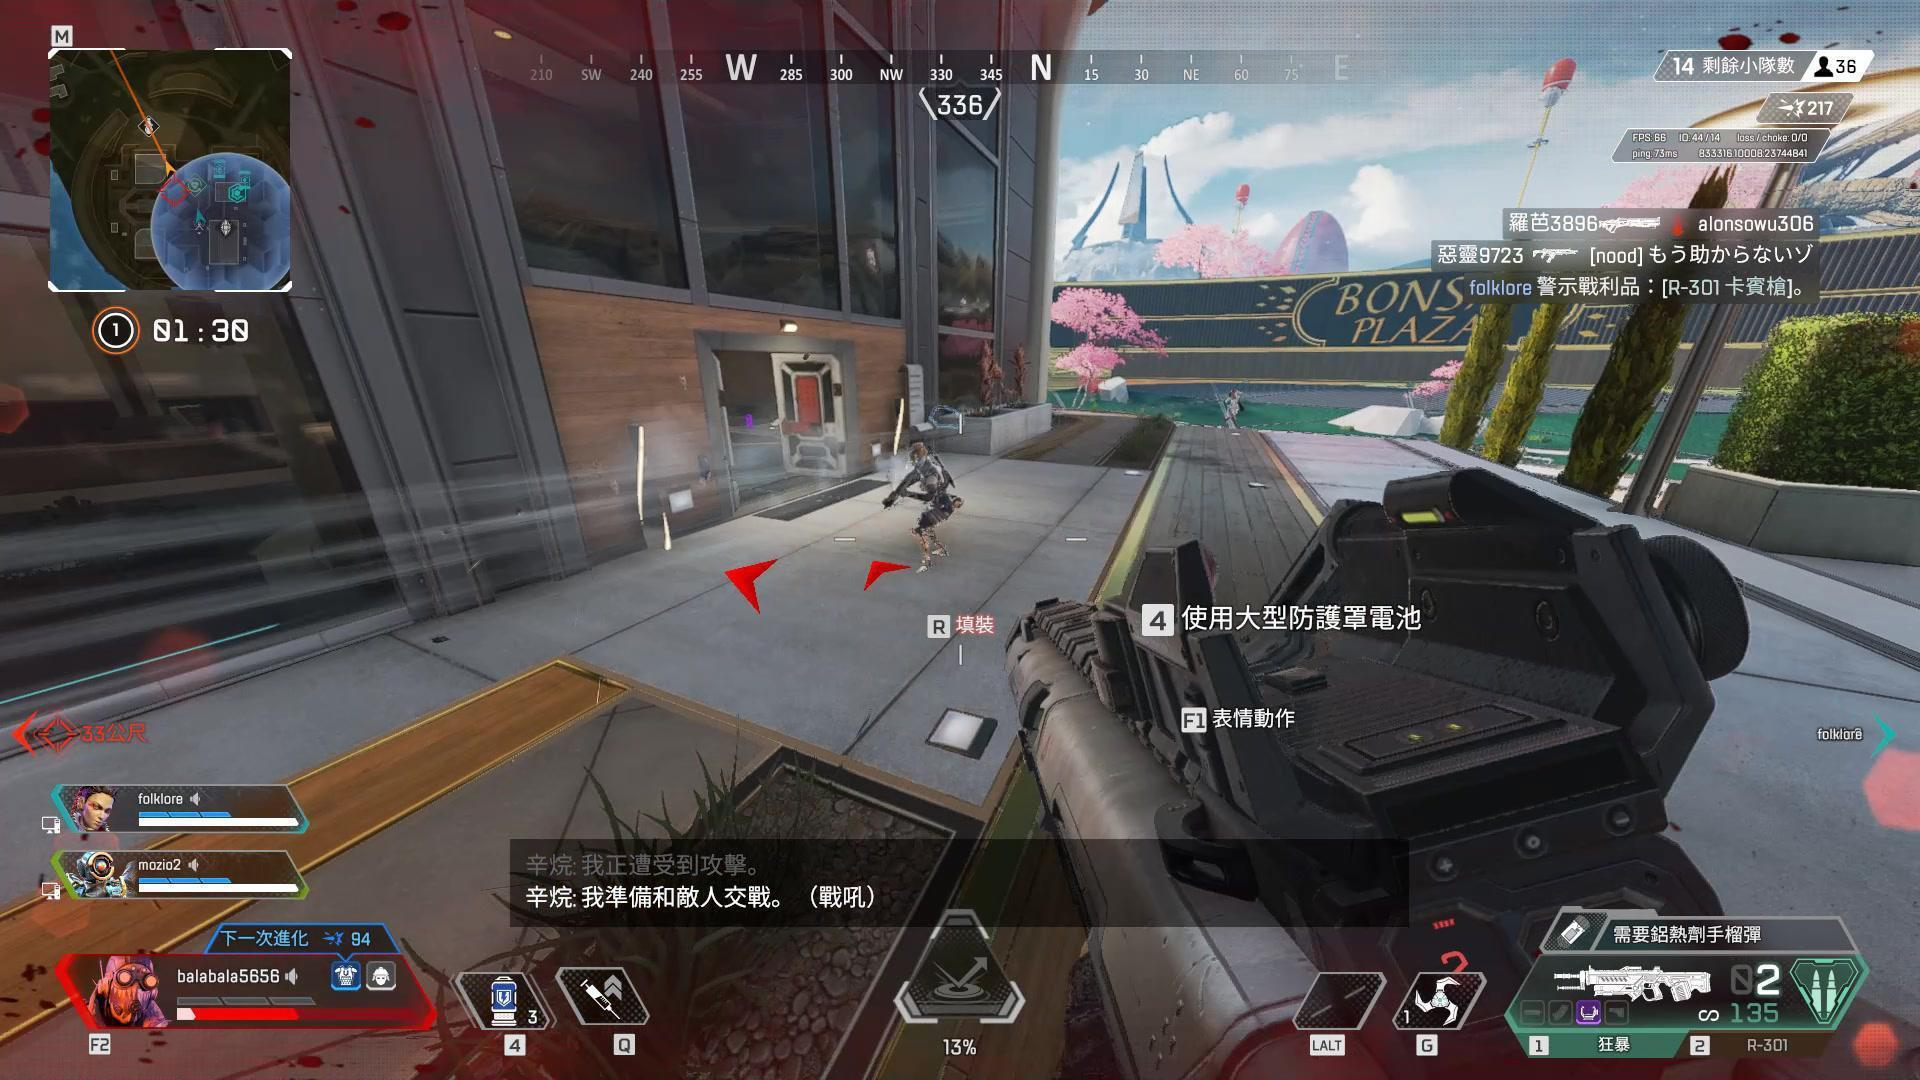avatar: (906, 440, 957, 575)
